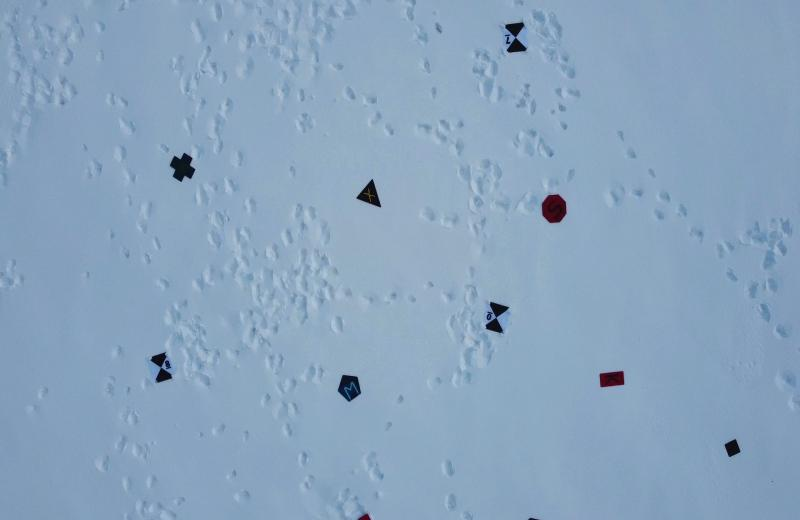Cross: (167, 152, 197, 186)
Octagon: (540, 192, 568, 227)
Pentagon: (336, 371, 364, 404)
Rectangle: (594, 366, 628, 392)
Square: (722, 436, 743, 461)
Triangle: (354, 173, 384, 212)
